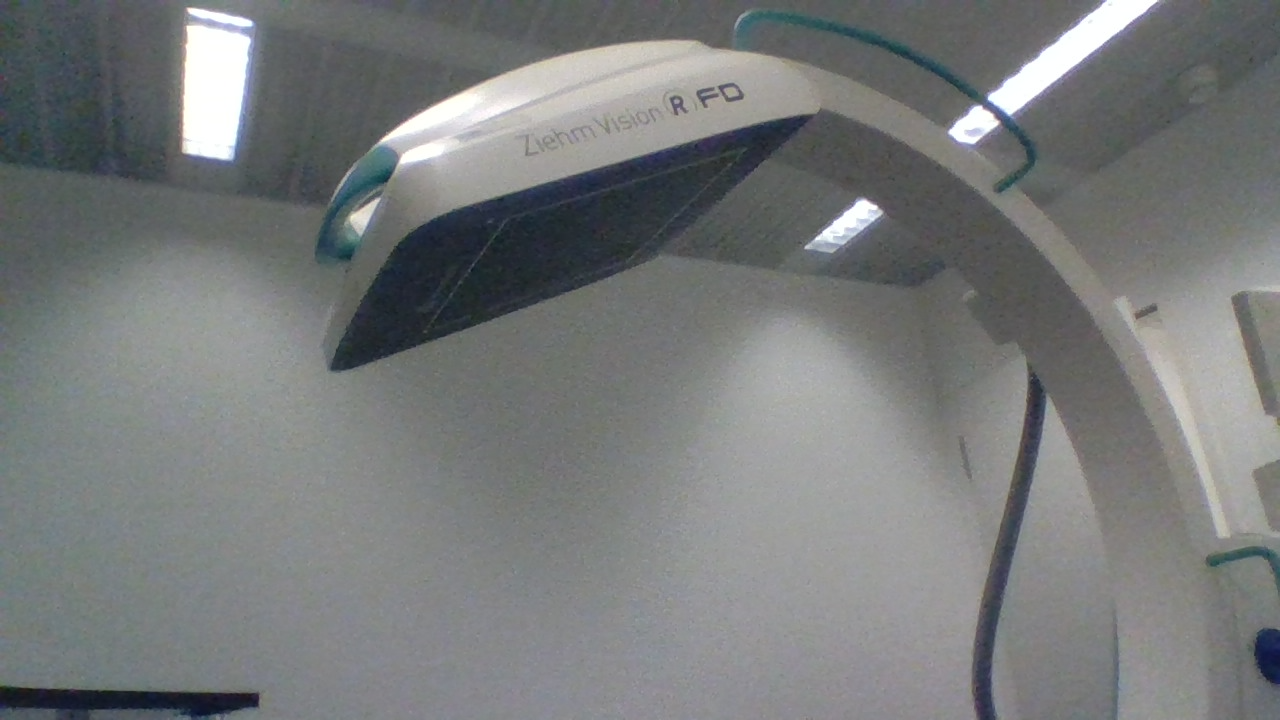carmUP: (313, 36, 823, 376)
